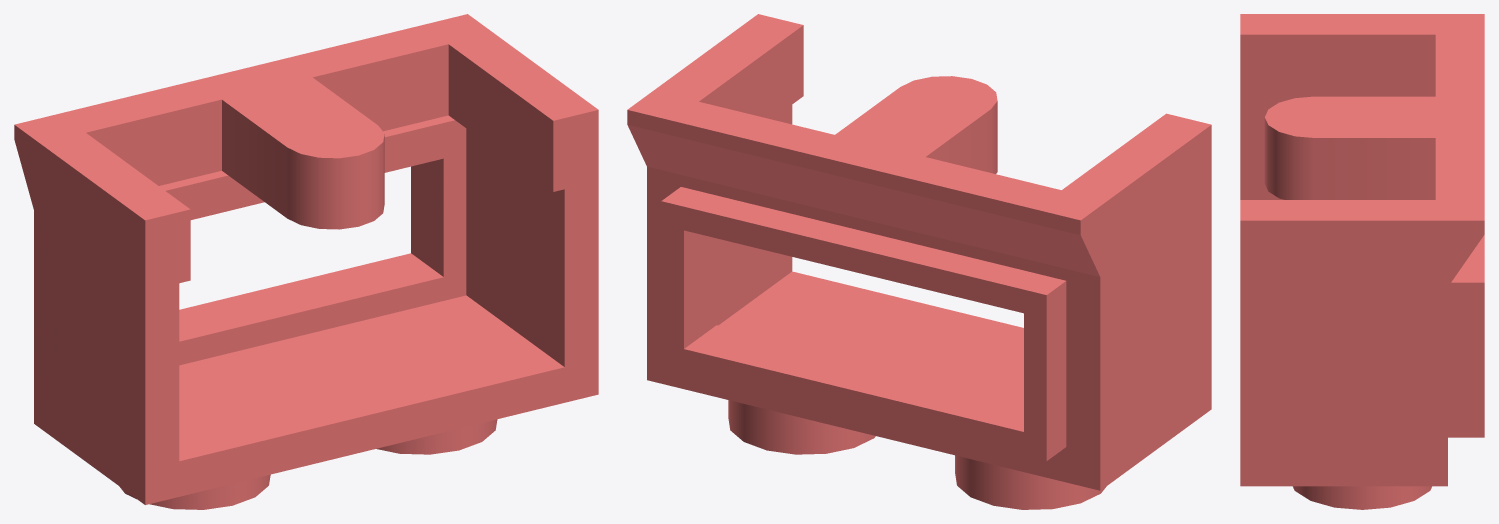
3 renders of one model, left to right at view 1: azimuth 30°, elevation 25°; view 2: azimuth 150°, elevation 25°; view 3: azimuth 270°, elevation 25°, orthographic. The views are drawn at different scales.
Visible parts, largest first — view 1: LDrawPart; view 2: LDrawPart; view 3: LDrawPart.
Part boxes in pixels (x1,y1,x2,y2): LDrawPart: (14,14,598,509); LDrawPart: (627,14,1211,509); LDrawPart: (1240,14,1484,509).
Bounding box in the file's own units: 0.28 × 0.196 × 0.14.
